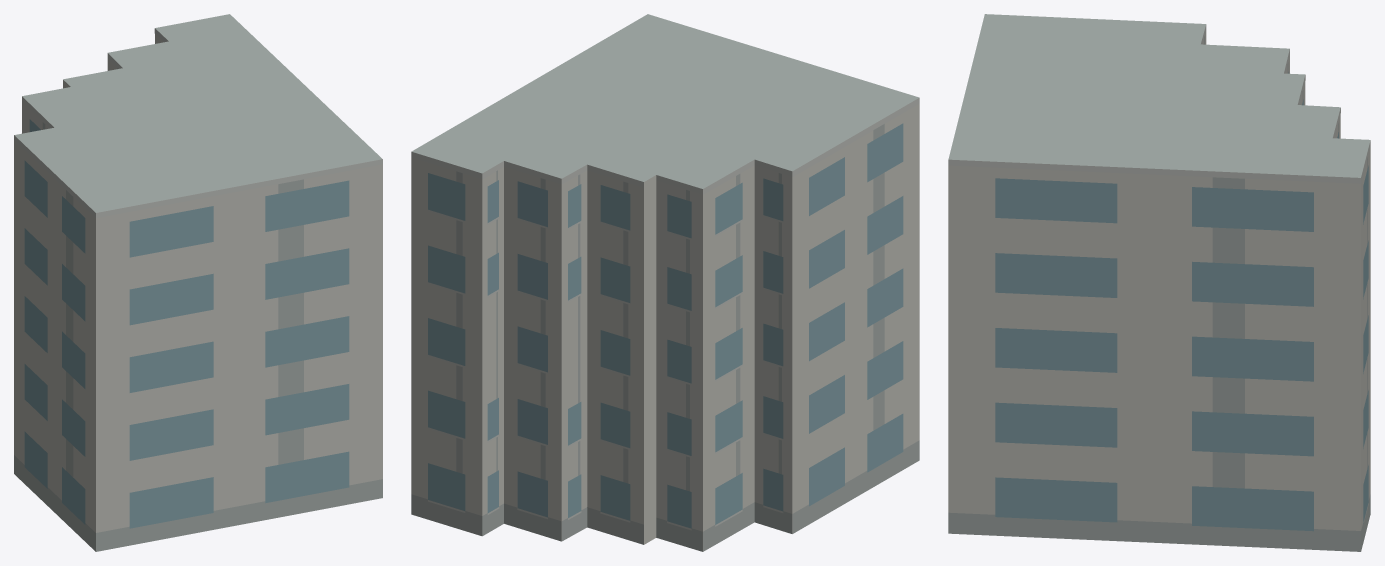
The model's file is survey-upis-32679676.glb.
3 views of the same model, side by side, from view 1: azimuth 30°, elevation 25°; view 2: azimuth 150°, elevation 25°; view 3: azimuth 270°, elevation 25° (orthographic). The views are drawn at different scales.
Visible parts, largest first — view 1: survey-upis-32679676.tmp; view 2: survey-upis-32679676.tmp; view 3: survey-upis-32679676.tmp.
Boxes of the visible parts, left/top/right/bottom form: survey-upis-32679676.tmp: left=14, top=14, right=382, bottom=551; survey-upis-32679676.tmp: left=411, top=14, right=919, bottom=551; survey-upis-32679676.tmp: left=948, top=14, right=1370, bottom=551.
Size of the model in its own units: 14.34 by 15.25 by 15.61.
